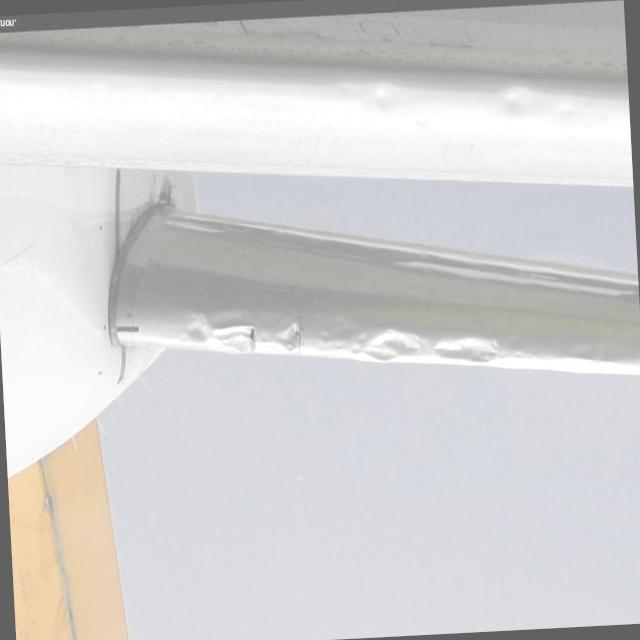dent: (184, 306, 256, 360), (362, 323, 426, 368), (433, 332, 504, 370), (496, 76, 536, 116), (277, 313, 305, 362), (367, 78, 399, 110)
